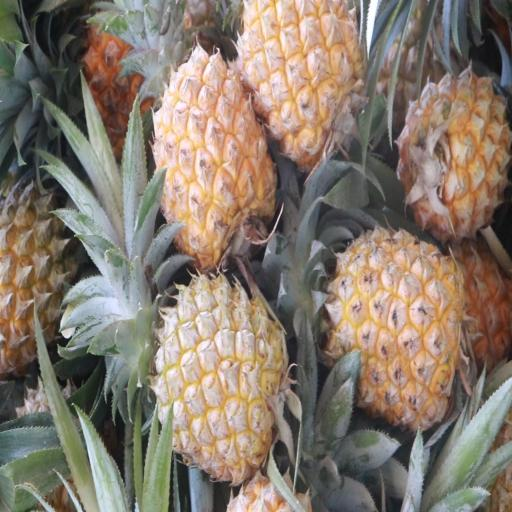------------------------------: (0, 183, 77, 353)
Pineapple - v8 v1: (156, 276, 288, 478), (153, 50, 278, 262), (329, 226, 459, 424), (237, 0, 360, 153), (404, 71, 511, 234)
